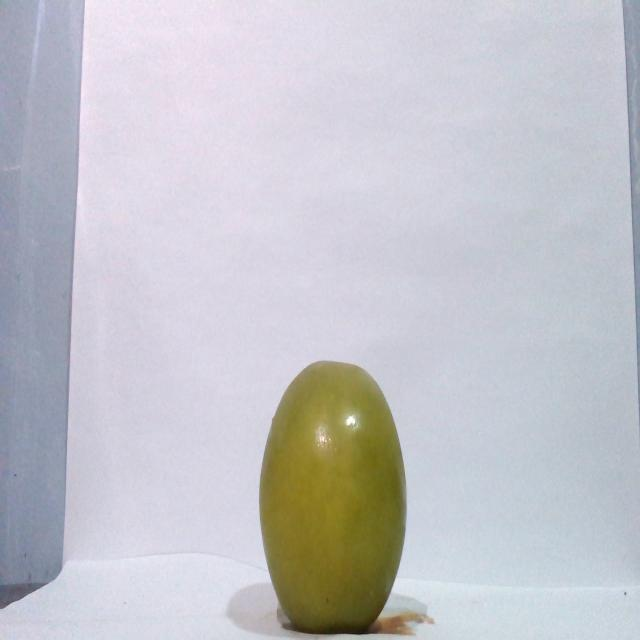Red: (257, 358, 408, 633)
